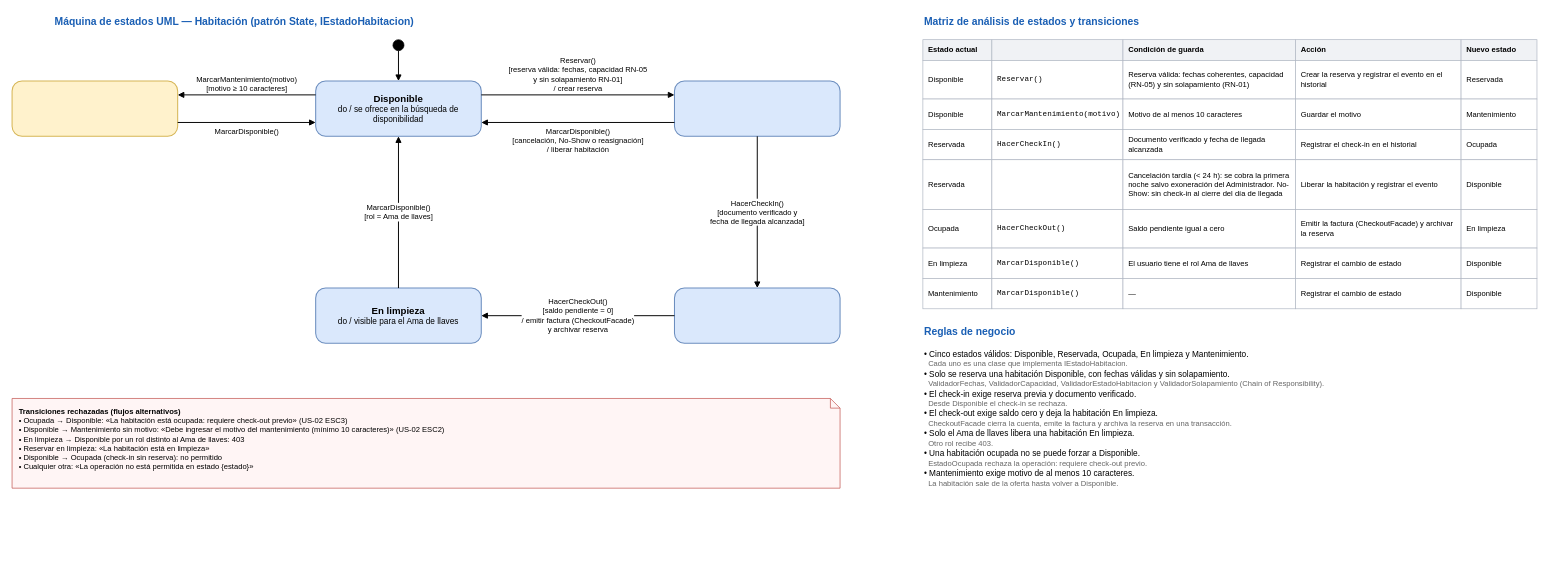
Image size: 1550x563. Some labels were removed from this diagram. Here are the shapes that lost their labels. From the top down, the centre of each, then its label:
At pixel 1057 49: "Evento".
At pixel 94 108: "Mantenimiento entry / guardar motivo do / fuera de la oferta".
At pixel 757 108: "Reservada do / fechas bloqueadas para otras reservas (RN-01)".
At pixel 1057 184: "MarcarDisponible() cancelación, No-Show o reasignación".
At pixel 757 315: "Ocupada do / registrar consumos (minibar, late check-out)".
